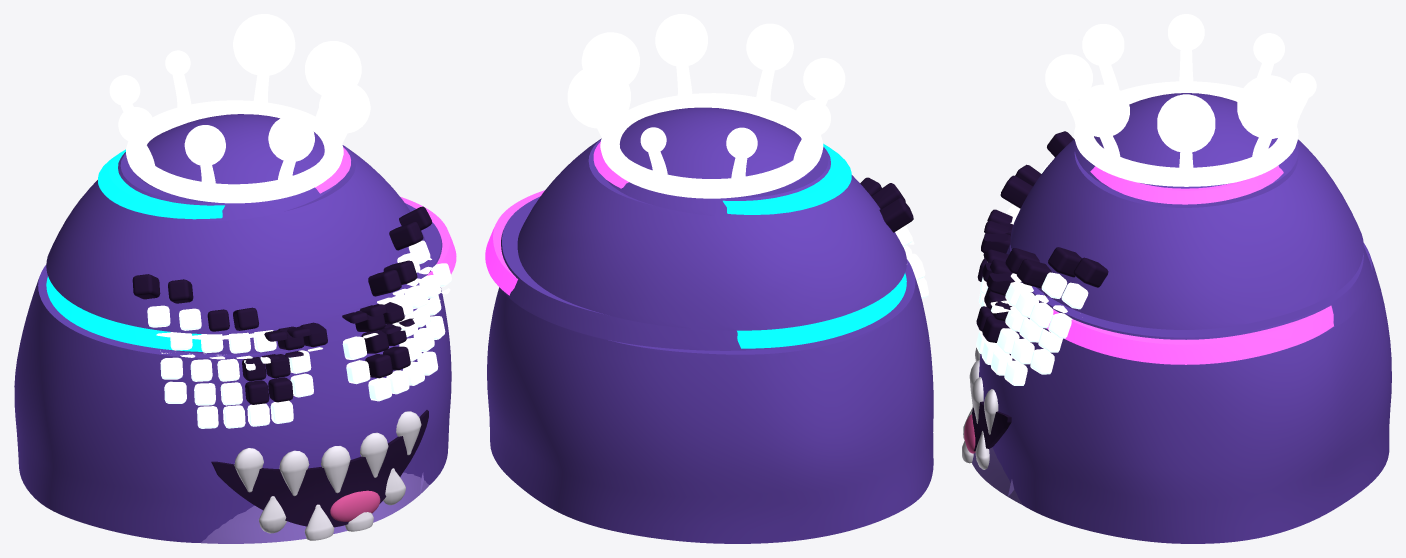
The model's file is LagzHead.glb.
3 renders of one model, left to right at view 1: azimuth 30°, elevation 25°; view 2: azimuth 150°, elevation 25°; view 3: azimuth 270°, elevation 25°, orthographic. The views are drawn at different scales.
Visible parts, largest first — view 1: Body__SmoothPlastic__6B46C1, Crown__Neon__E9D8FD__Spin, Dark__SmoothPlastic__1E0B33, Eyes__Neon__B8F5FF, Teeth__SmoothPlastic__F7F2FF, GlitchCyan__Neon__00E5FF, Belly__SmoothPlastic__9F7AEA, GlitchPink__Neon__FF3DF2, Tongue__SmoothPlastic__E0529C; view 2: Body__SmoothPlastic__6B46C1, Crown__Neon__E9D8FD__Spin, GlitchCyan__Neon__00E5FF, GlitchPink__Neon__FF3DF2, Dark__SmoothPlastic__1E0B33, Eyes__Neon__B8F5FF; view 3: Body__SmoothPlastic__6B46C1, Crown__Neon__E9D8FD__Spin, GlitchPink__Neon__FF3DF2, Dark__SmoothPlastic__1E0B33, Eyes__Neon__B8F5FF, Teeth__SmoothPlastic__F7F2FF, Belly__SmoothPlastic__9F7AEA.
Boxes of the visible parts, x1,y1,x2,y2 form: Body__SmoothPlastic__6B46C1: (14,114,451,542); Crown__Neon__E9D8FD__Spin: (109,14,370,203); Dark__SmoothPlastic__1E0B33: (132,206,431,527); Eyes__Neon__B8F5FF: (147,240,451,428); Teeth__SmoothPlastic__F7F2FF: (234,411,421,540); GlitchCyan__Neon__00E5FF: (46,149,224,351); Belly__SmoothPlastic__9F7AEA: (201,472,429,543); GlitchPink__Neon__FF3DF2: (315,147,456,275); Tongue__SmoothPlastic__E0529C: (330,490,380,521); Body__SmoothPlastic__6B46C1: (487,107,933,543); Crown__Neon__E9D8FD__Spin: (567,14,845,198); GlitchCyan__Neon__00E5FF: (723,143,906,348); GlitchPink__Neon__FF3DF2: (485,141,628,295); Dark__SmoothPlastic__1E0B33: (860,177,913,232); Eyes__Neon__B8F5FF: (895,225,928,298); Body__SmoothPlastic__6B46C1: (979,93,1391,543); Crown__Neon__E9D8FD__Spin: (1045,14,1316,186); GlitchPink__Neon__FF3DF2: (1047,165,1333,364); Dark__SmoothPlastic__1E0B33: (971,131,1108,451); Eyes__Neon__B8F5FF: (976,164,1088,385); Teeth__SmoothPlastic__F7F2FF: (962,347,998,469); Belly__SmoothPlastic__9F7AEA: (972,447,1022,504).
Size of the model in its own units: 12.73 by 12 by 11.58.
